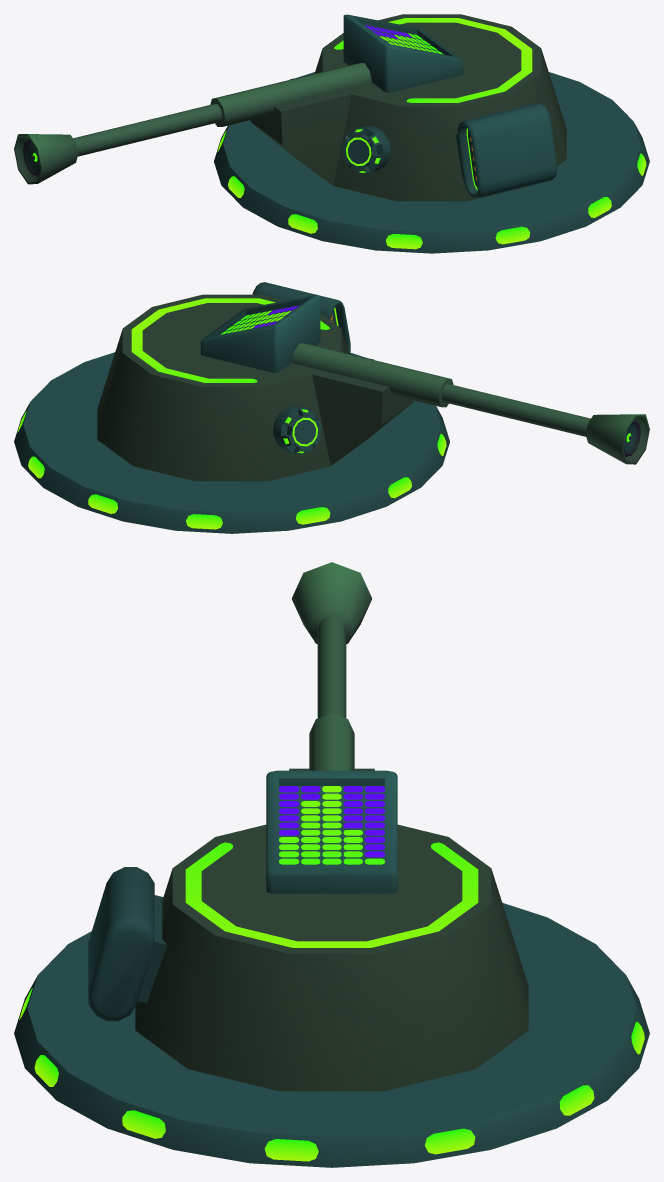
Rendered from green_01.fbx.
3 renders of one model, top to bottom at view 1: azimuth 30°, elevation 25°; view 2: azimuth 150°, elevation 25°; view 3: azimuth 270°, elevation 25°, orthographic. The views are drawn at different scales.
Visible parts, largest first — view 1: Circle.020, green_01; view 2: Circle.020, green_01; view 3: Circle.020, green_01.
Part boxes in pixels (bbox=[...]): Circle.020: bbox=[14, 14, 566, 201]; green_01: bbox=[214, 72, 649, 253]; Circle.020: bbox=[97, 282, 649, 481]; green_01: bbox=[14, 352, 449, 533]; Circle.020: bbox=[88, 562, 528, 1091]; green_01: bbox=[14, 903, 649, 1167].
Bounding box in the file's own units: 807 × 192 × 514.
